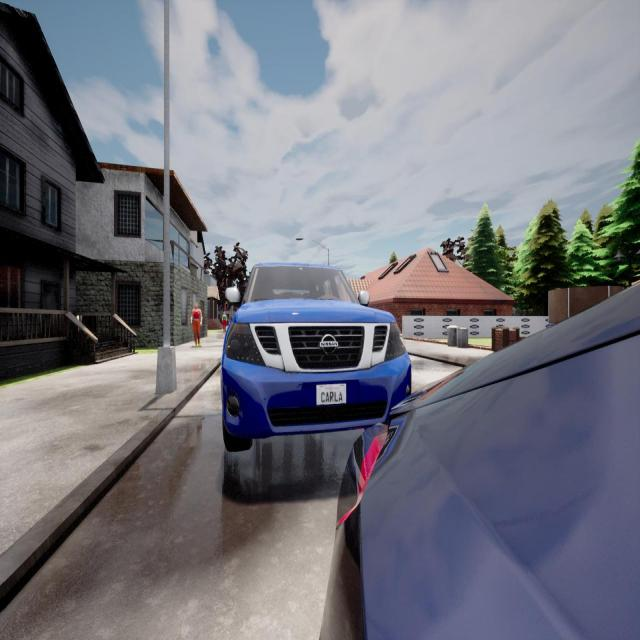Pedestrian: (190, 301, 202, 346), (221, 311, 227, 332)
Vehicle: (320, 284, 640, 638), (219, 264, 411, 451)
